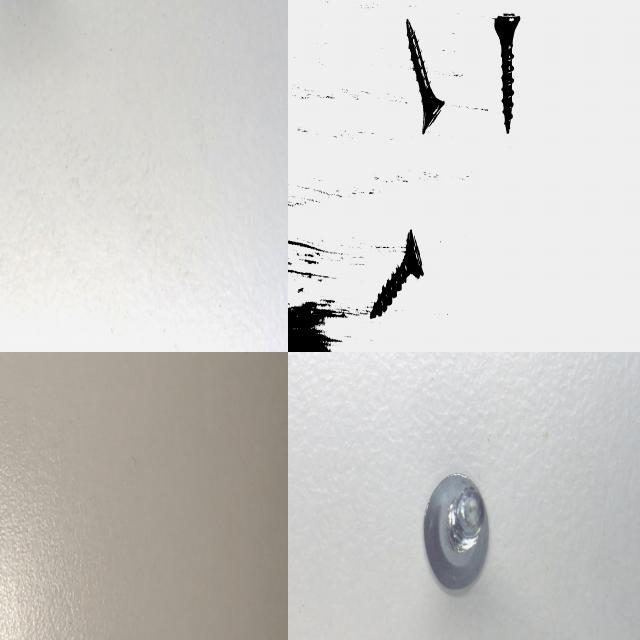Screw: (426, 473, 489, 586), (370, 230, 424, 319), (406, 18, 445, 133), (495, 12, 521, 133)
